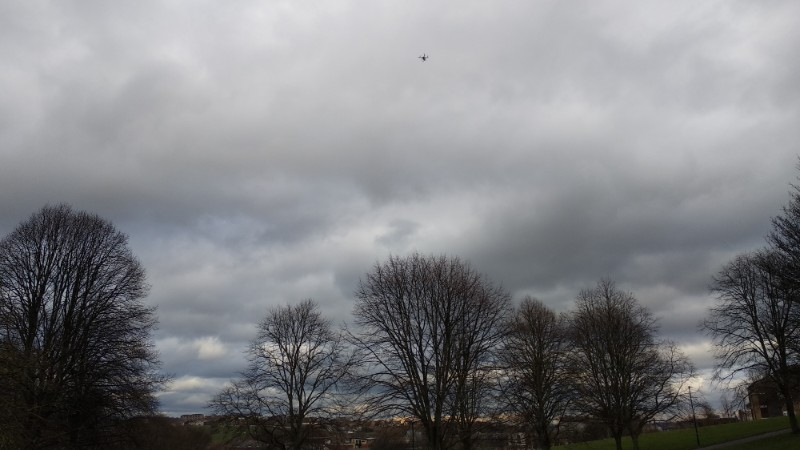drone: (417, 53, 431, 64)
